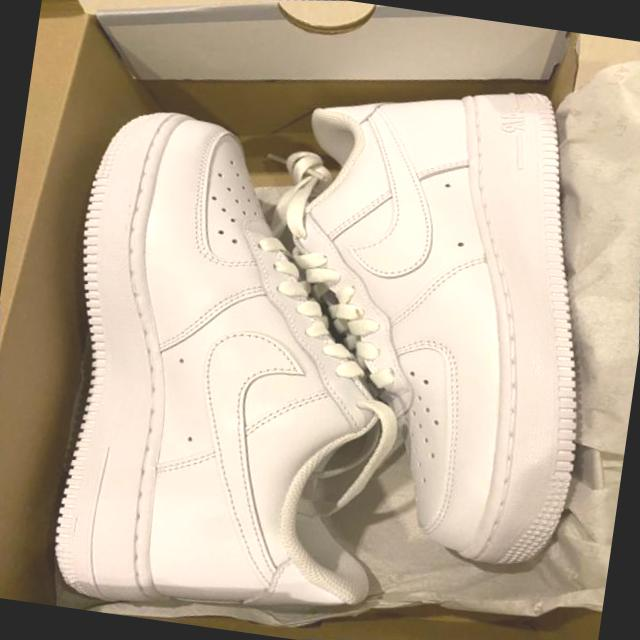nike_original_airforce: (0, 71, 439, 640), (222, 52, 640, 608)
